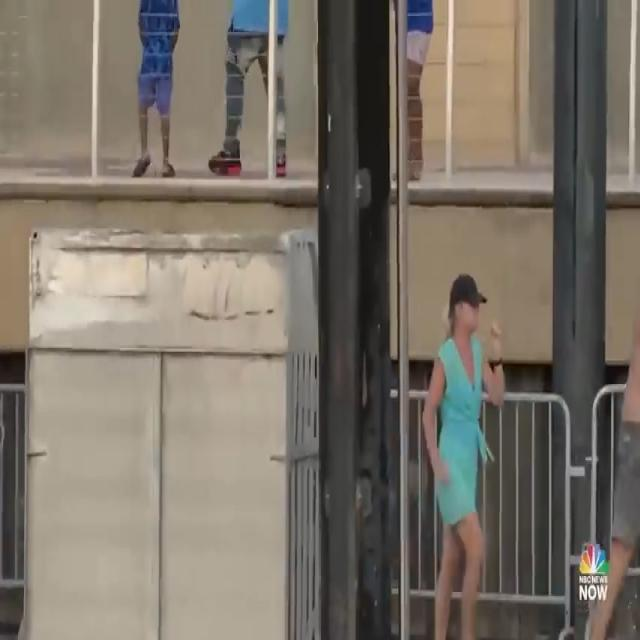non-fight: (422, 265, 504, 640)
